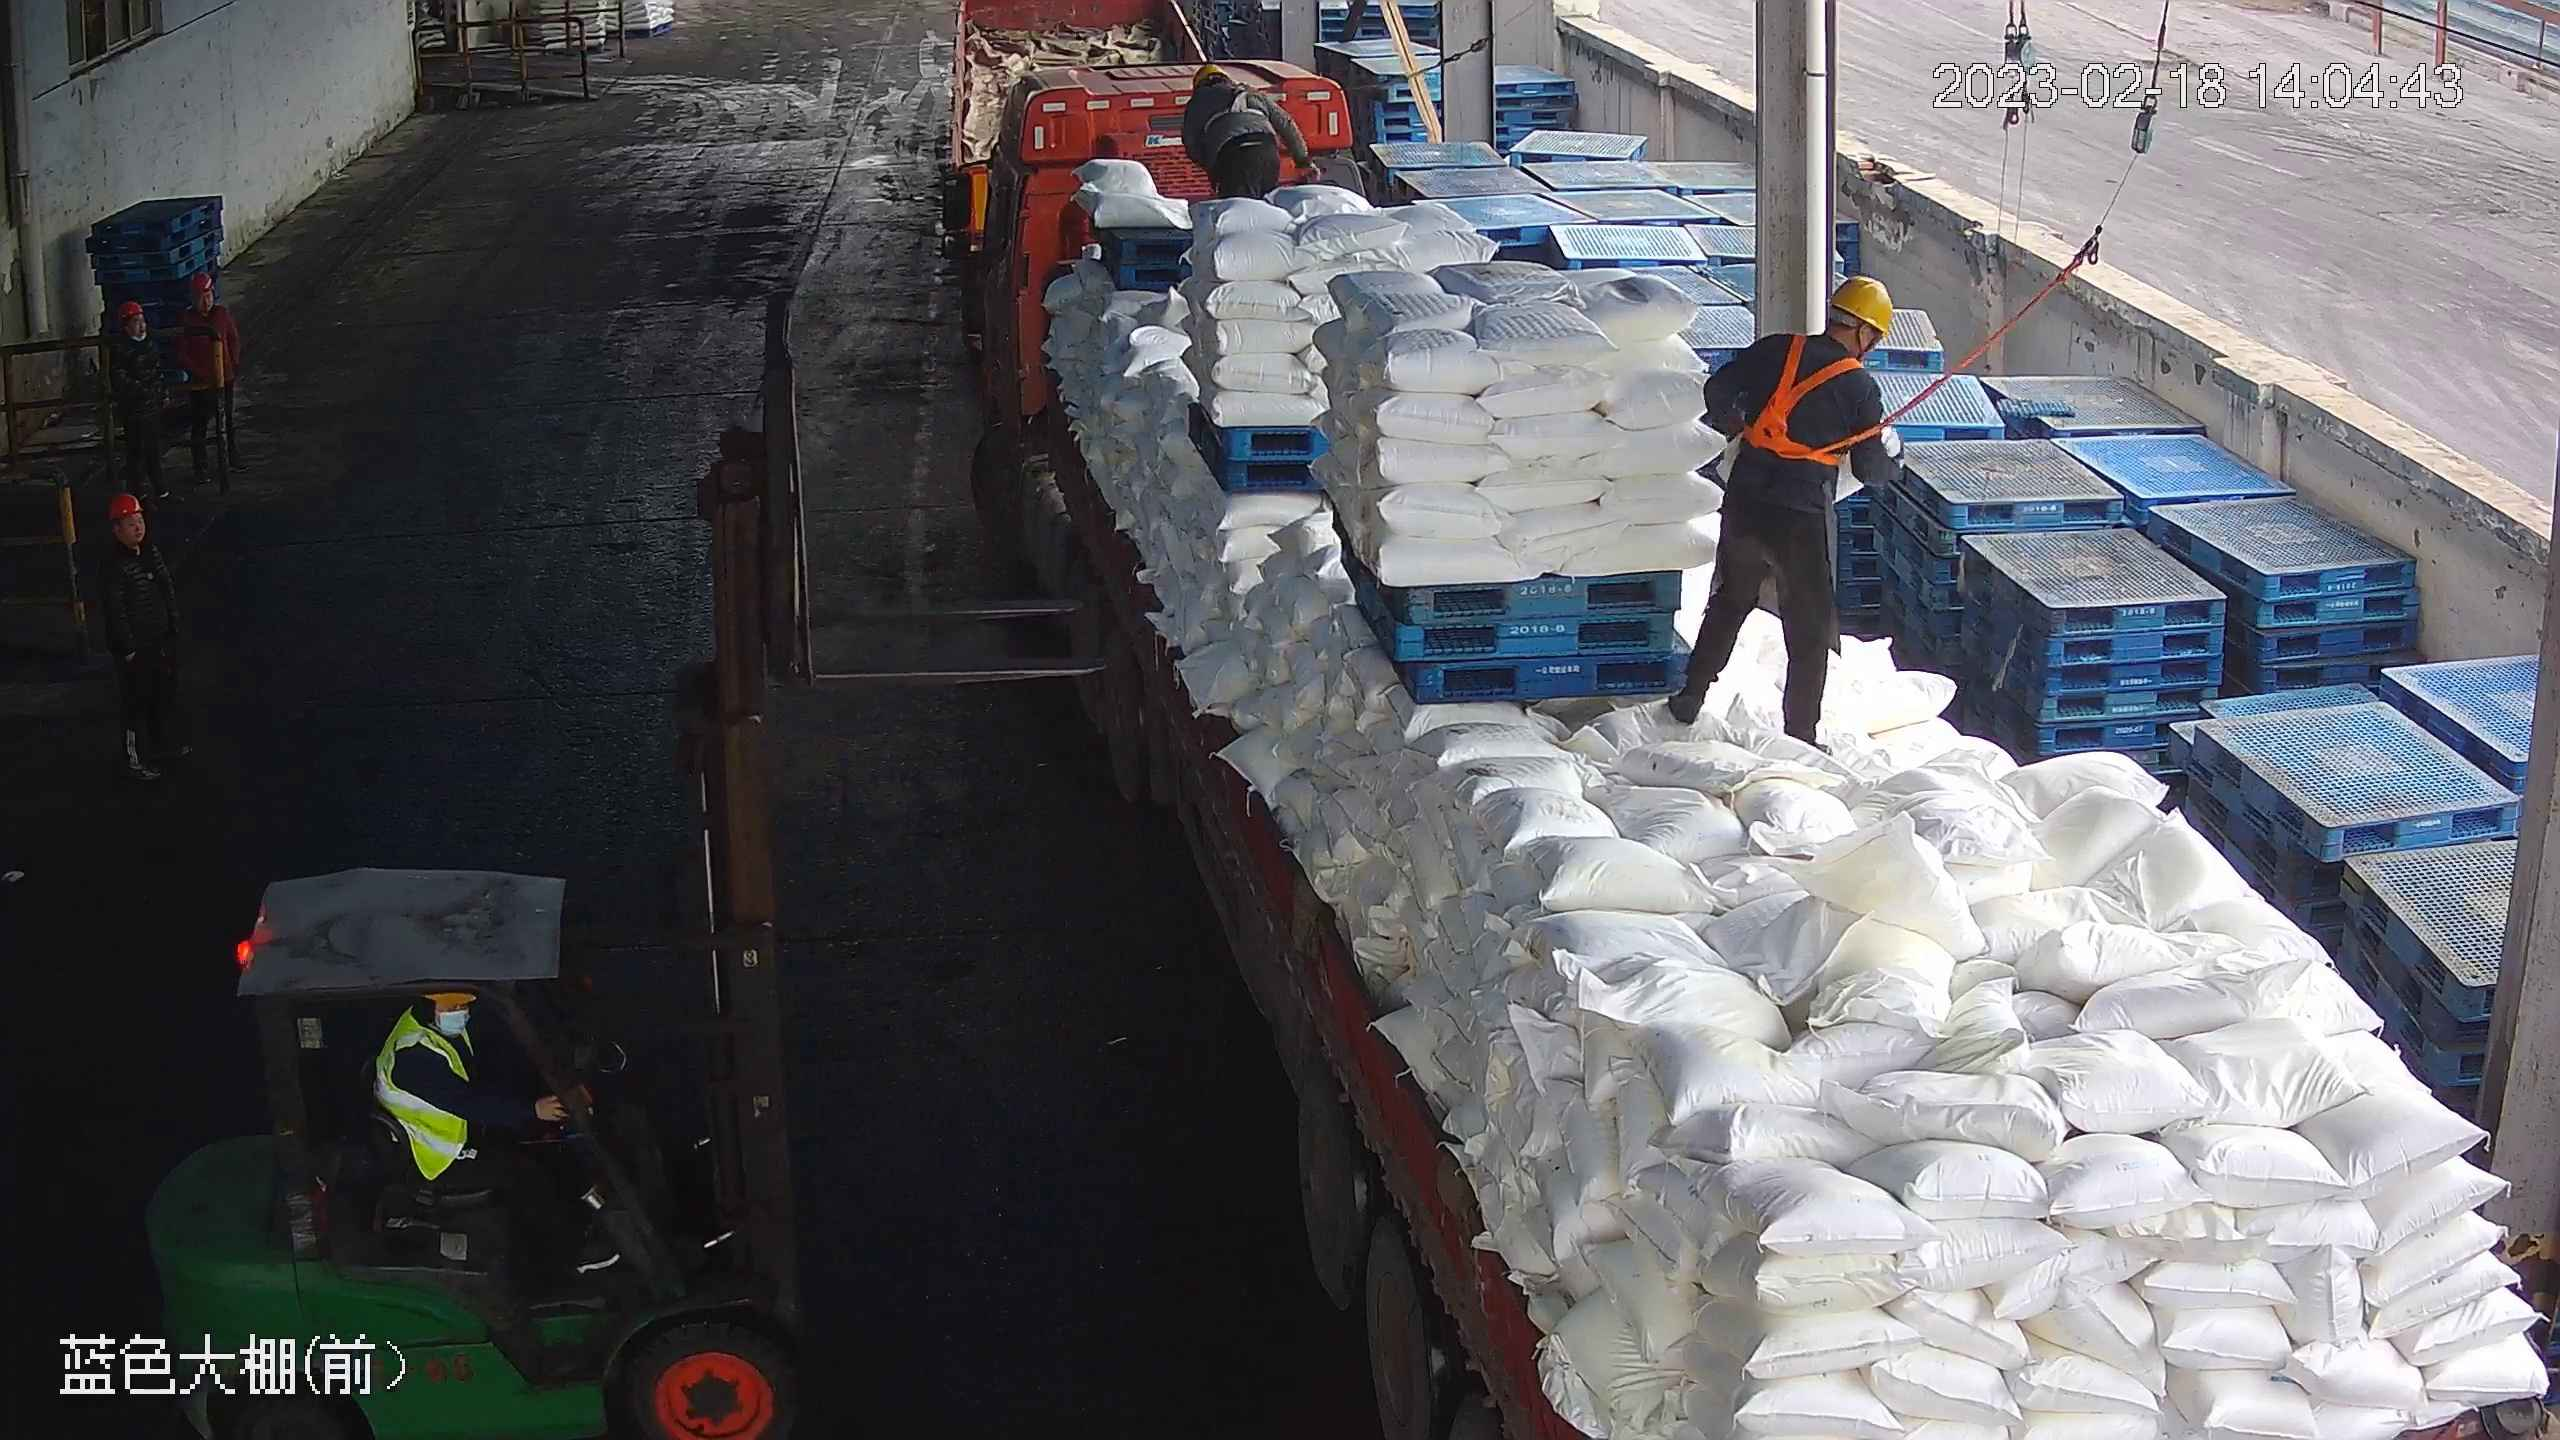belt: (1738, 335, 1864, 467), (1213, 73, 1270, 122)
head: (1730, 270, 1897, 414), (91, 491, 171, 589), (111, 294, 170, 358), (1187, 58, 1258, 109), (177, 267, 229, 332)
helmet: (1827, 273, 1898, 336), (1184, 57, 1237, 102), (104, 490, 143, 521), (118, 297, 149, 321), (188, 271, 211, 292)
people: (1656, 271, 1899, 742), (371, 984, 636, 1279), (90, 491, 184, 788), (115, 285, 214, 491), (1179, 57, 1301, 204), (167, 263, 241, 487)
truck: (949, 44, 2547, 1440)
